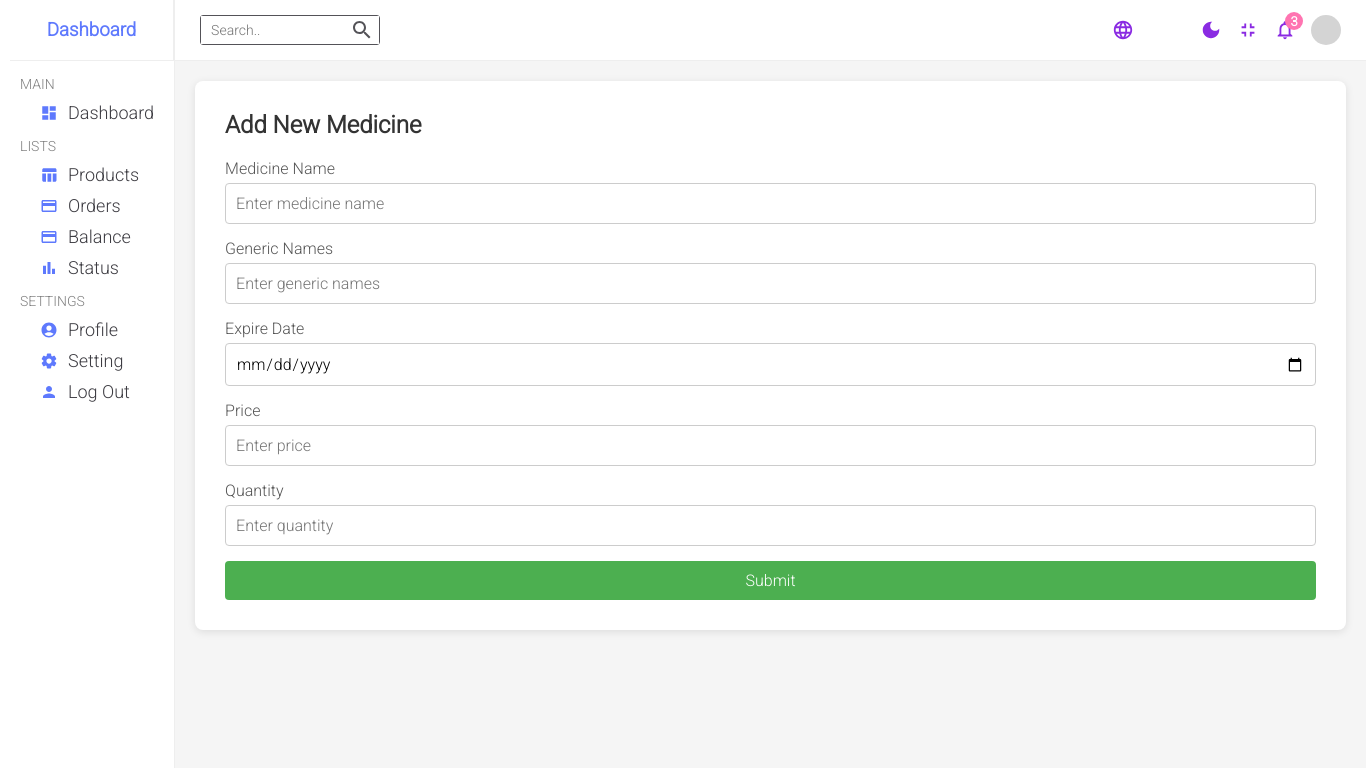
AddNew Component › shows error message if price or quantity are invalid
Type "Paracetamol" into the field labelled "Medicine Name" at (771, 204), box [225,183,1316,224]
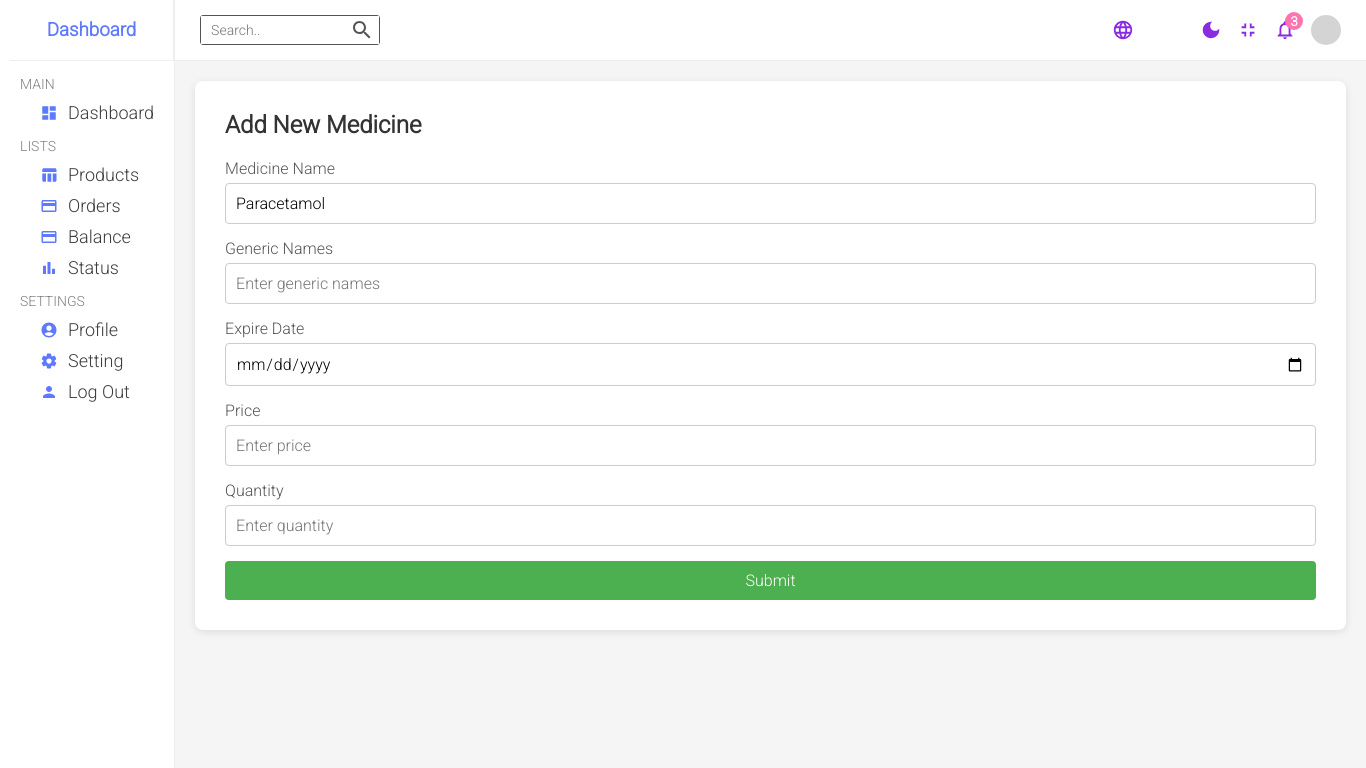
Type "Acetaminophen" into the field labelled "Generic Names" at (771, 284), box [225,263,1316,304]
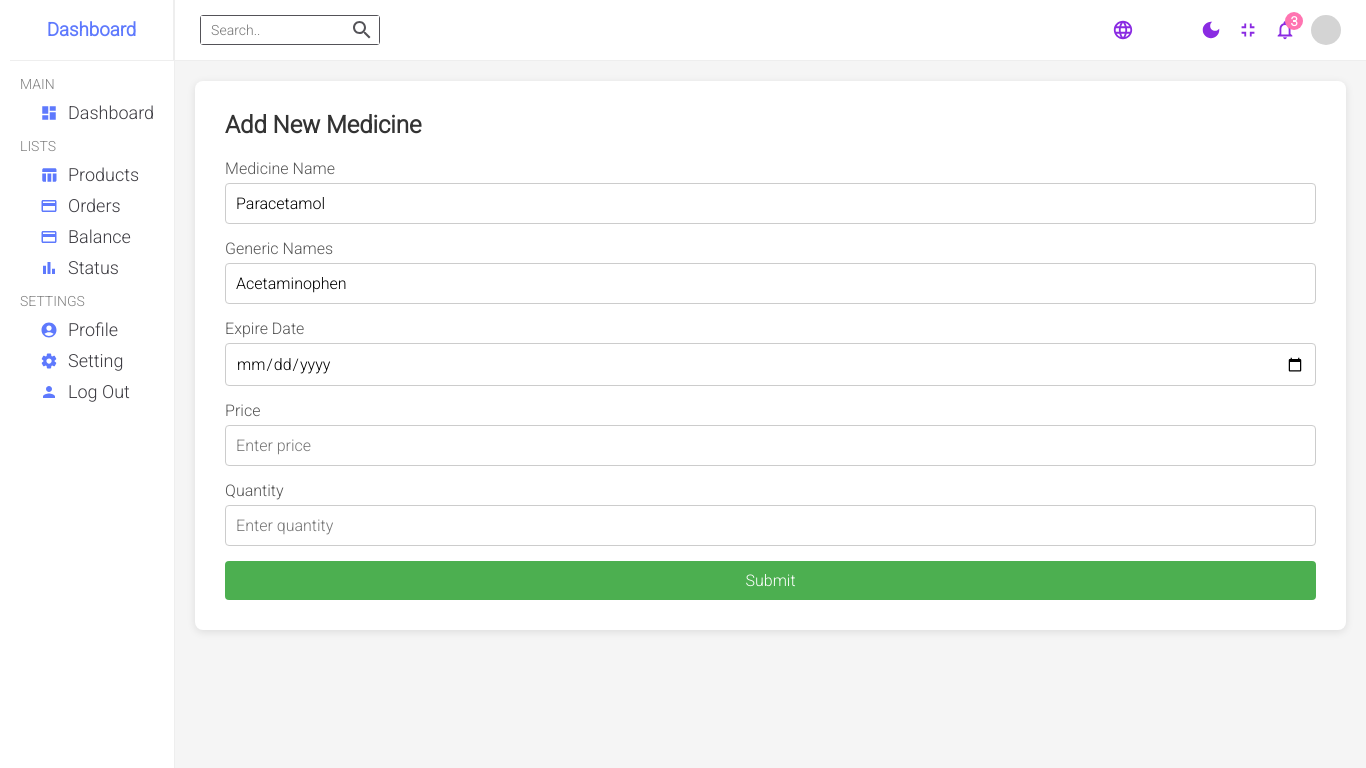
Type "2025-12-31" into the date field labelled "Expire Date" at (771, 364), box [225,343,1316,386]
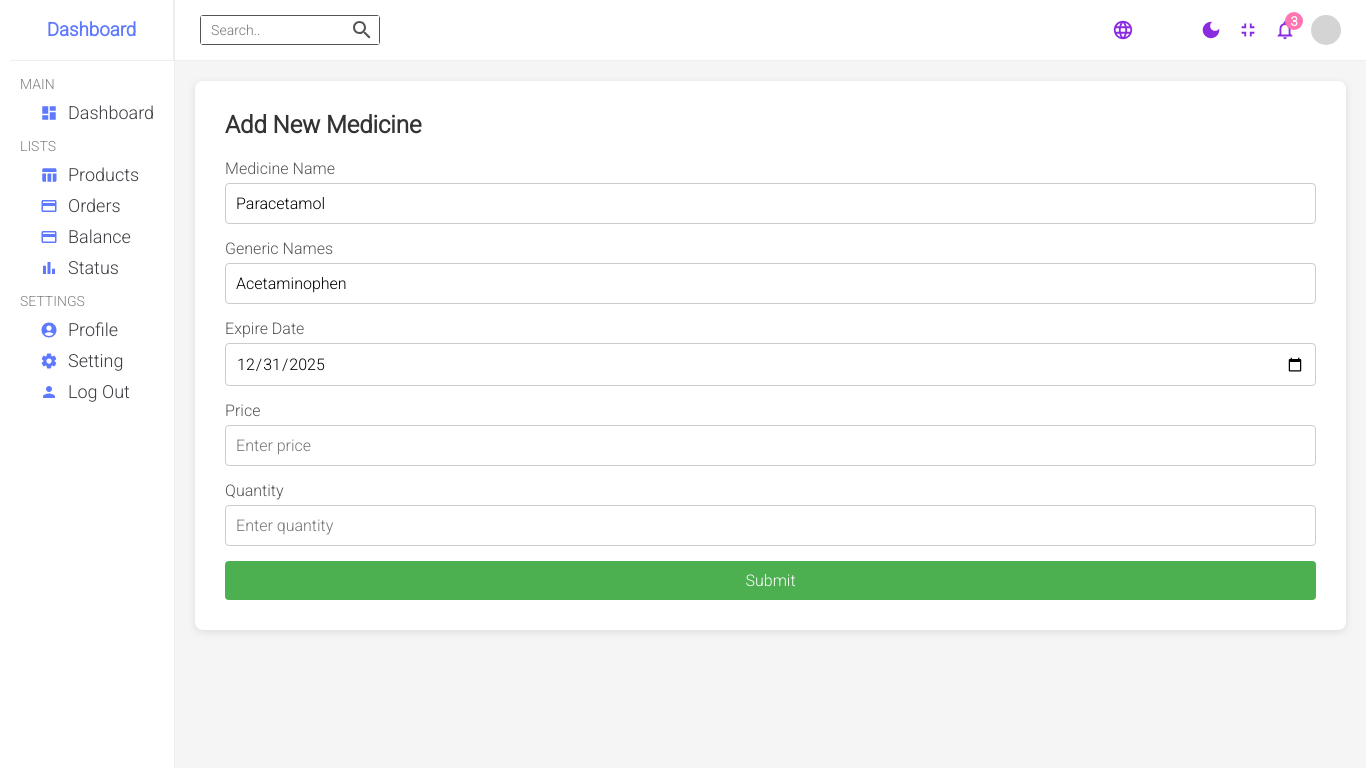
Type "-10" into the number field labelled "Price" at (771, 446), box [225,425,1316,466]
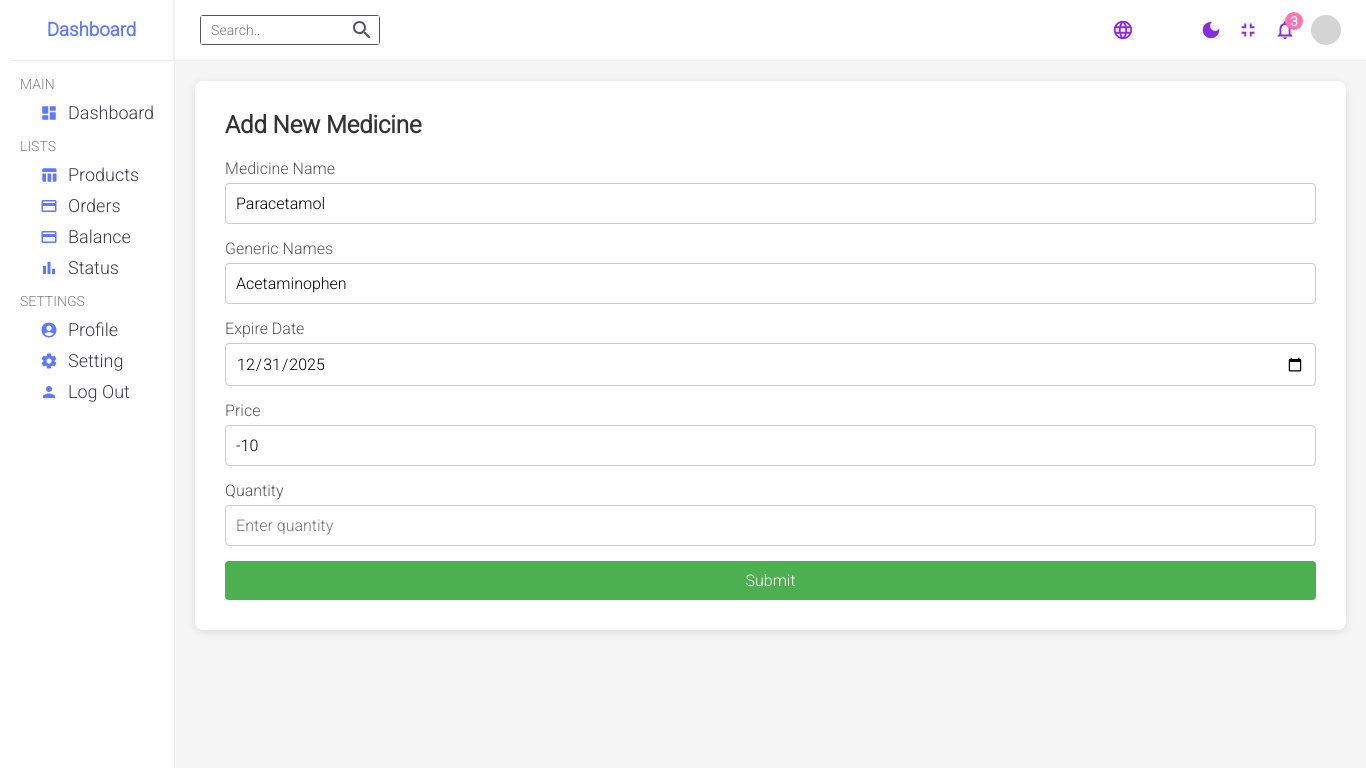
Type "0" into the number field labelled "Quantity" at (771, 526), box [225,505,1316,546]
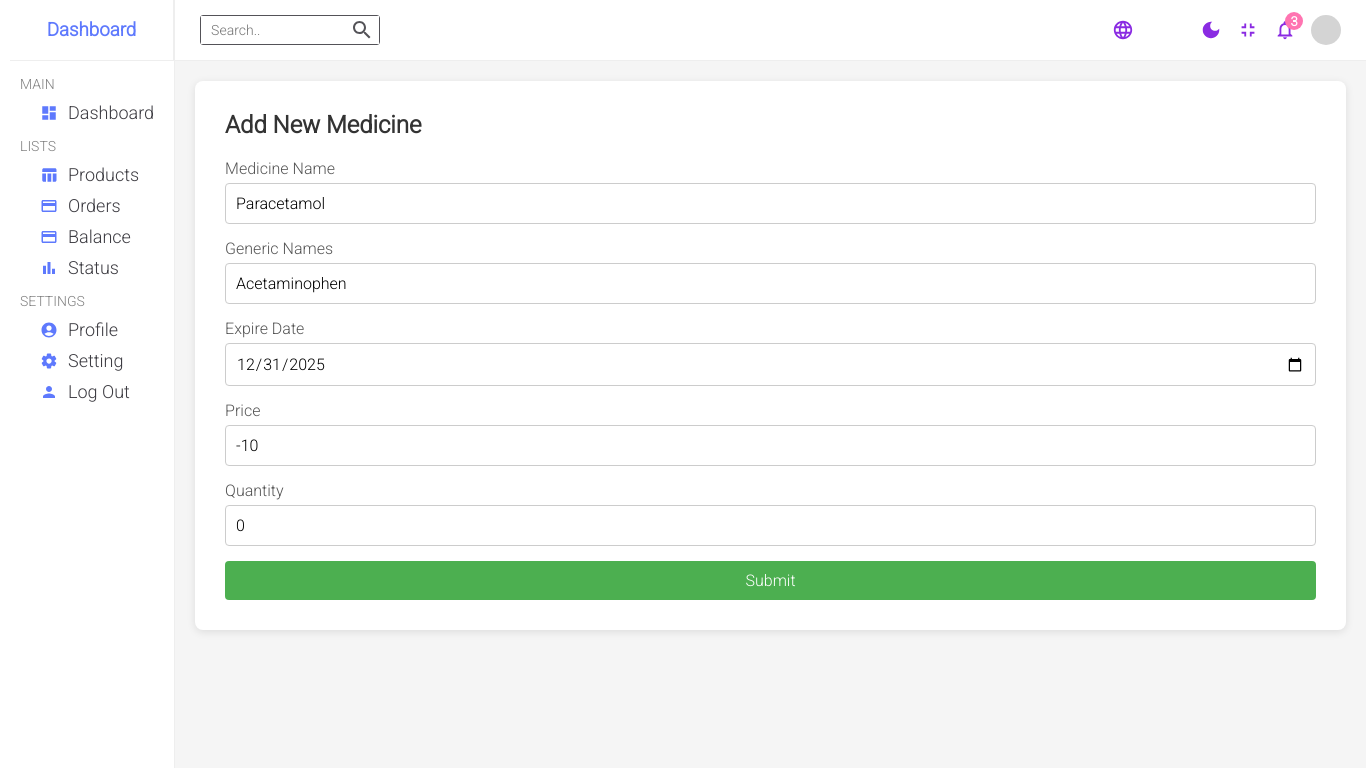
Click the button "Submit" at (771, 580), box [225,561,1316,600]
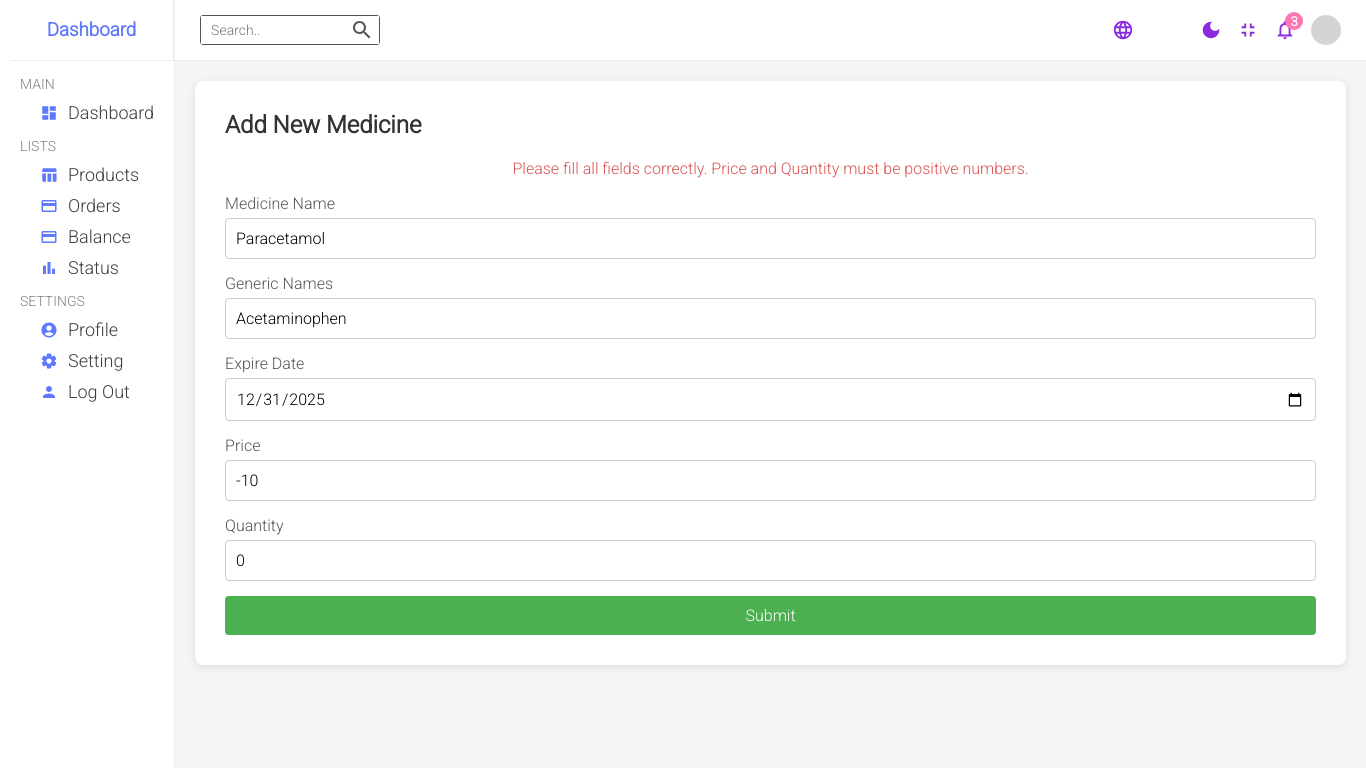
Check: the text "Please fill all fields correctly" is shown, box [512,159,1029,178]
